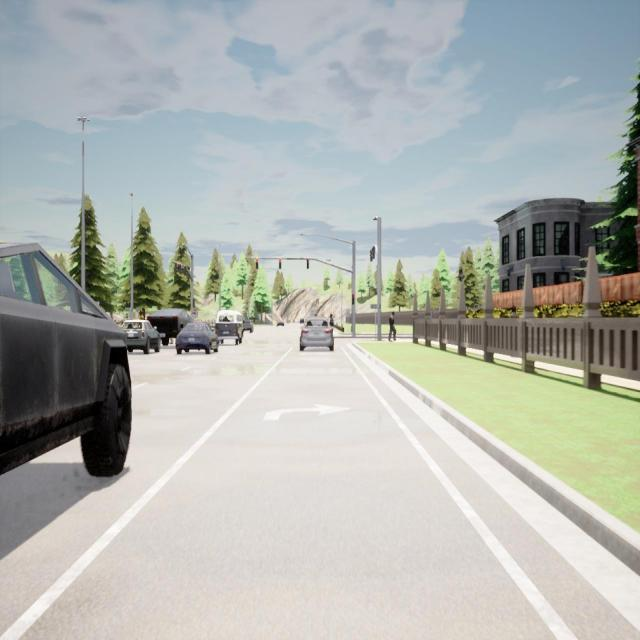Pedestrian: (388, 312, 397, 342), (329, 313, 334, 327)
Traffic_Signs: (192, 309, 198, 318), (370, 304, 380, 309)
Vehicle: (0, 244, 131, 476), (146, 308, 194, 346), (120, 320, 160, 354), (176, 322, 218, 354), (299, 316, 334, 351), (216, 310, 243, 345), (244, 320, 254, 332), (276, 320, 284, 327), (300, 318, 304, 324)
traffic_light: (372, 246, 375, 258), (174, 262, 177, 273), (352, 294, 355, 304), (192, 298, 195, 308), (179, 264, 182, 274), (185, 266, 188, 275), (370, 249, 372, 262), (307, 258, 309, 270), (279, 258, 281, 270), (256, 258, 258, 269)
